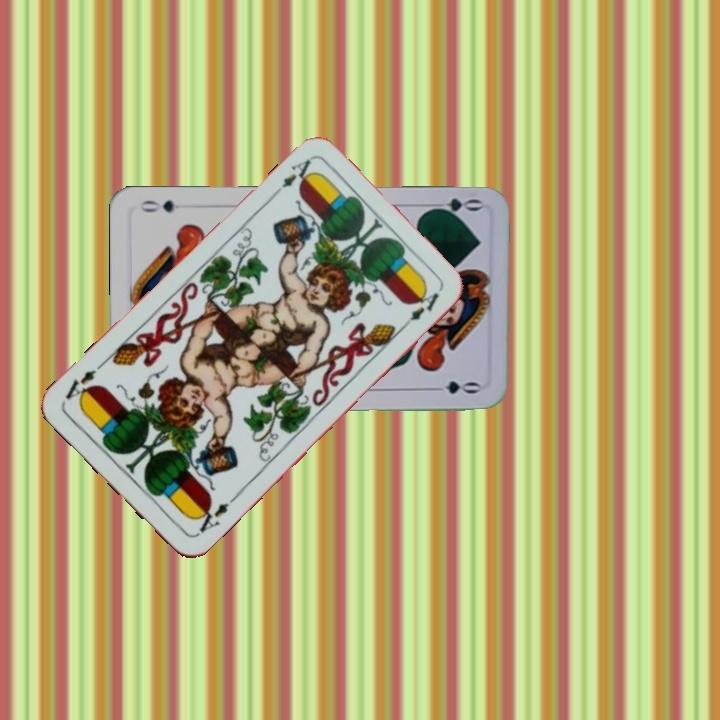EA: (268, 155, 317, 201), (190, 498, 232, 539)
GO: (424, 194, 483, 219)
